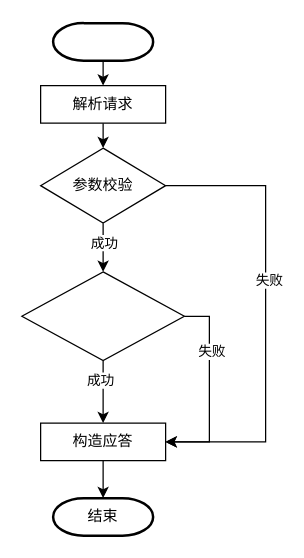
This 304x558 diagram has some shape labels left out. The centre of each missing label's shape, as x and y in pixels:
将时间戳更新DB: the point at 102,316
开始: the point at 102,41
